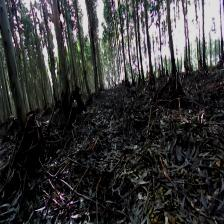trunk: (1, 6, 27, 126), (53, 14, 70, 88), (76, 24, 90, 92), (167, 9, 177, 72), (145, 20, 154, 74)
